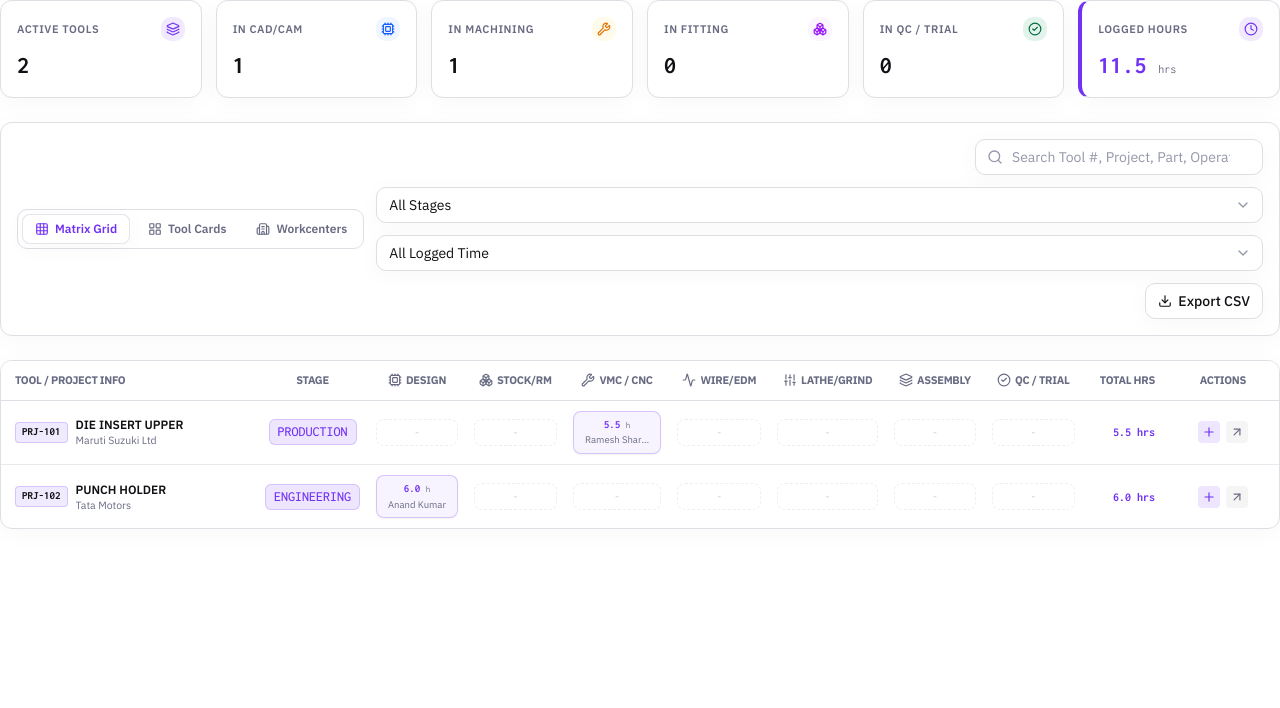
Scenario: ProjectToolMatrix Component › switches view mode between Matrix Grid, Tool Cards, and Workcenters
Expected: the column heading "Tool / Project Info" is shown, [1,361,257,400]
Switch to Cards
Click the button "Tool Cards": [187, 229] box [136,215,238,243]
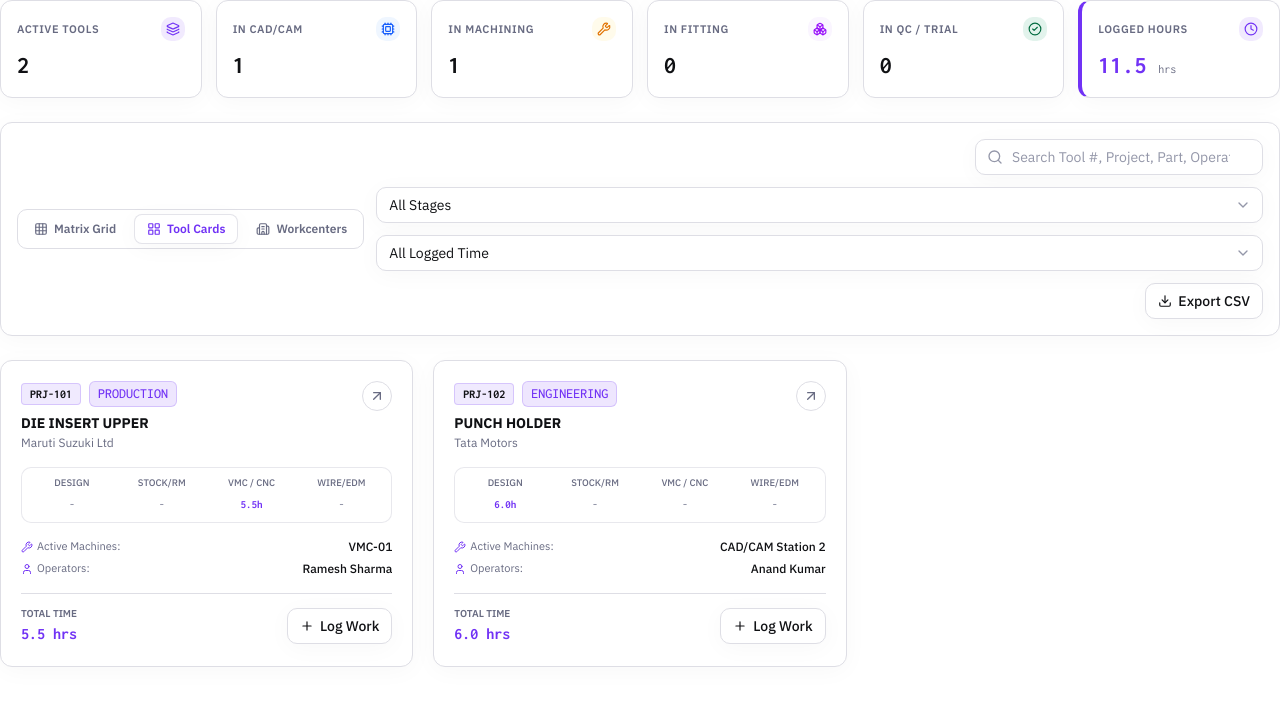
Expected: the text "Total Time" below "Ramesh Sharma" is shown, [21,607,77,620]
Switch to Workcenters
Click the button "Workcenters": [302, 229] box [244,215,359,243]
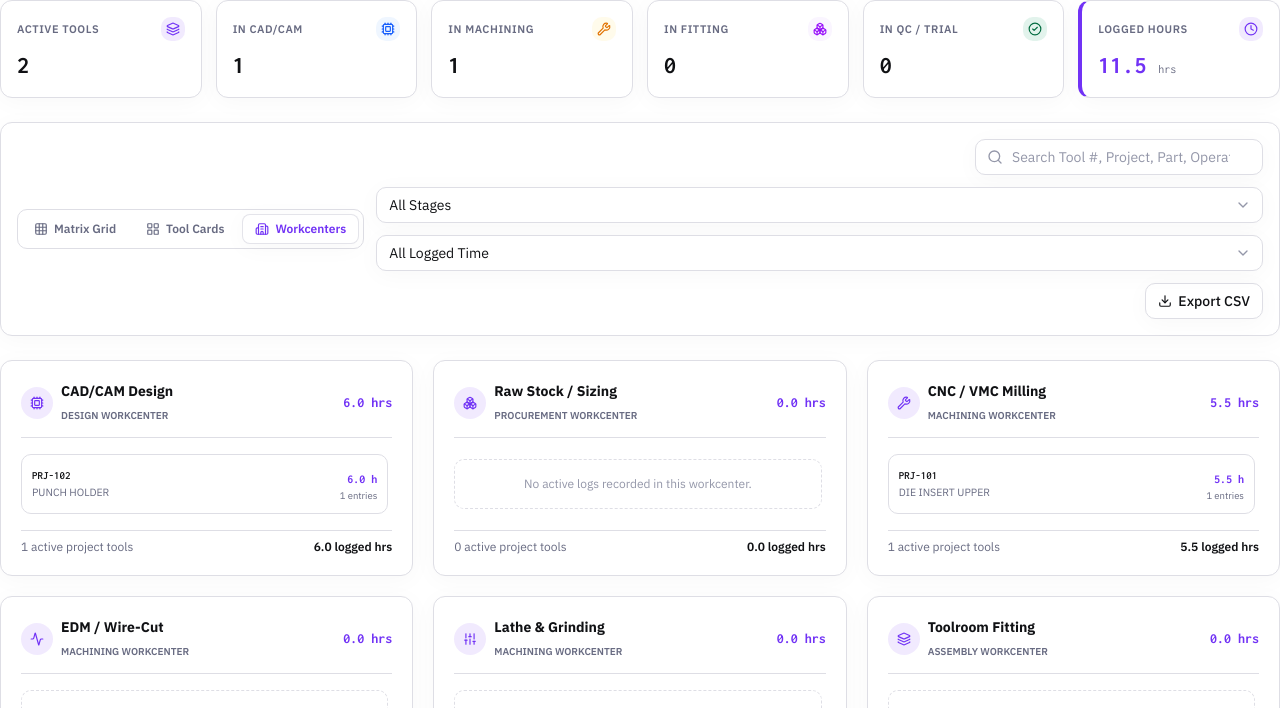
Expected: the heading "CAD/CAM Design" is shown, [61,381,173,401]
